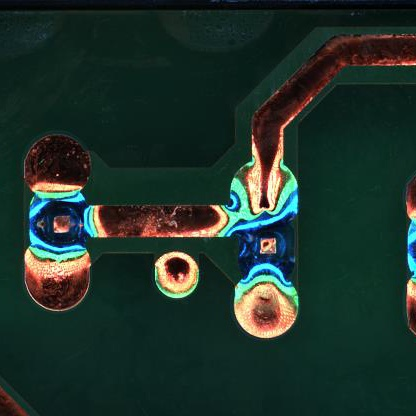spot: (28, 191, 89, 254), (234, 219, 298, 278)
